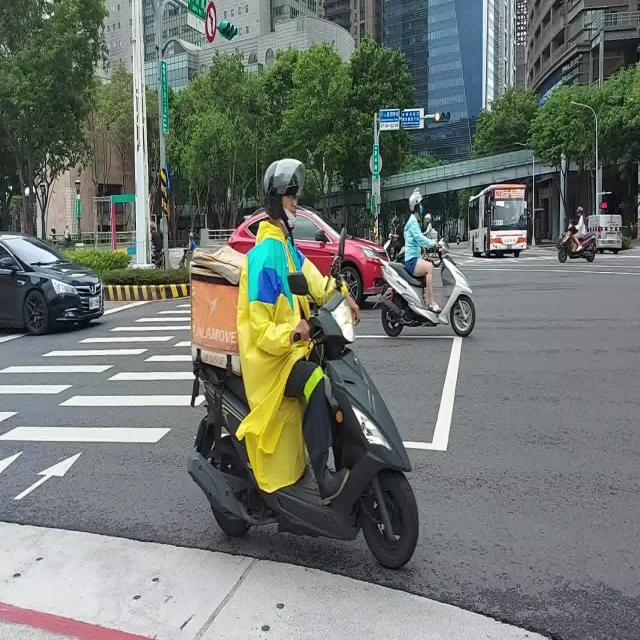bus: (468, 182, 528, 258)
car: (0, 233, 104, 334), (292, 207, 340, 276), (342, 236, 388, 304), (588, 213, 622, 253), (230, 216, 259, 251)
crosswalk: (0, 299, 190, 425), (0, 333, 195, 444)
motocycle: (188, 291, 419, 569), (380, 240, 475, 338), (558, 224, 596, 262), (384, 231, 402, 260)
